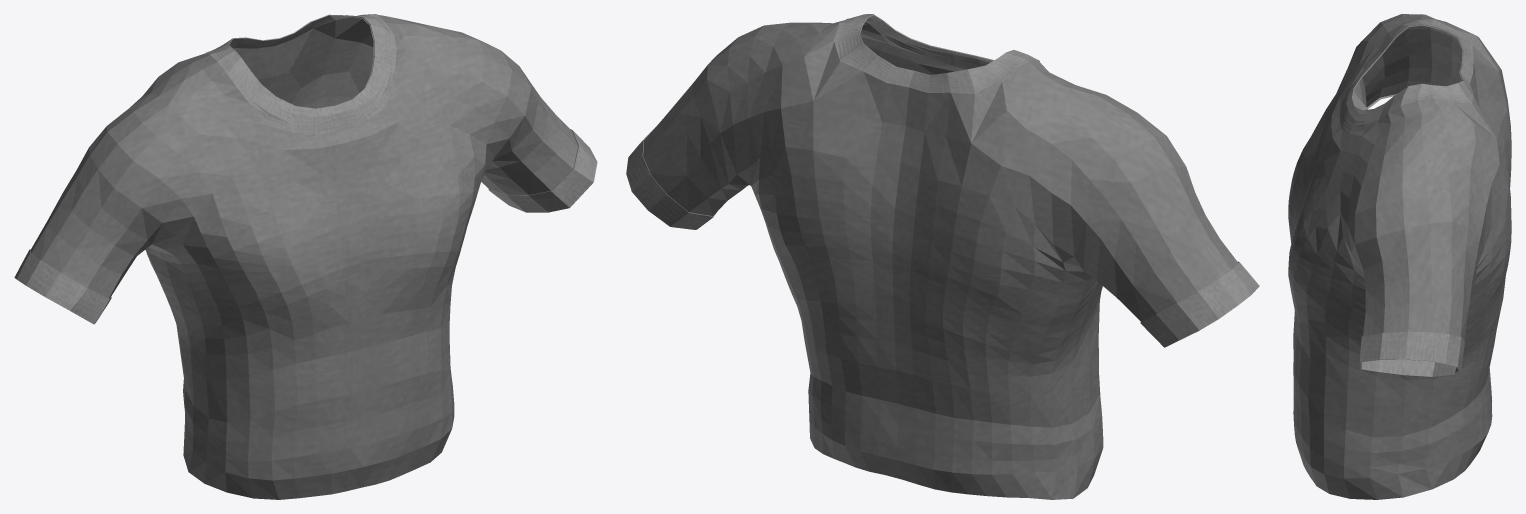
File: mhw_toigo_basic_tucked_t-shirt.glb
3 views of the same model, side by side, from view 1: azimuth 30°, elevation 25°; view 2: azimuth 150°, elevation 25°; view 3: azimuth 270°, elevation 25° (orthographic). The views are drawn at different scales.
Parts seen in each view (by area): view 1: mhw_toigo_basic_tucked_t-shirt; view 2: mhw_toigo_basic_tucked_t-shirt; view 3: mhw_toigo_basic_tucked_t-shirt.
Part boxes in pixels (x1,y1,x2,y2): mhw_toigo_basic_tucked_t-shirt: (14, 14, 597, 499); mhw_toigo_basic_tucked_t-shirt: (626, 14, 1259, 499); mhw_toigo_basic_tucked_t-shirt: (1288, 14, 1511, 499).
Size of the model in its own units: 0.7113 by 0.4943 by 0.2515.
Materials: 1 (1 with a texture image).
